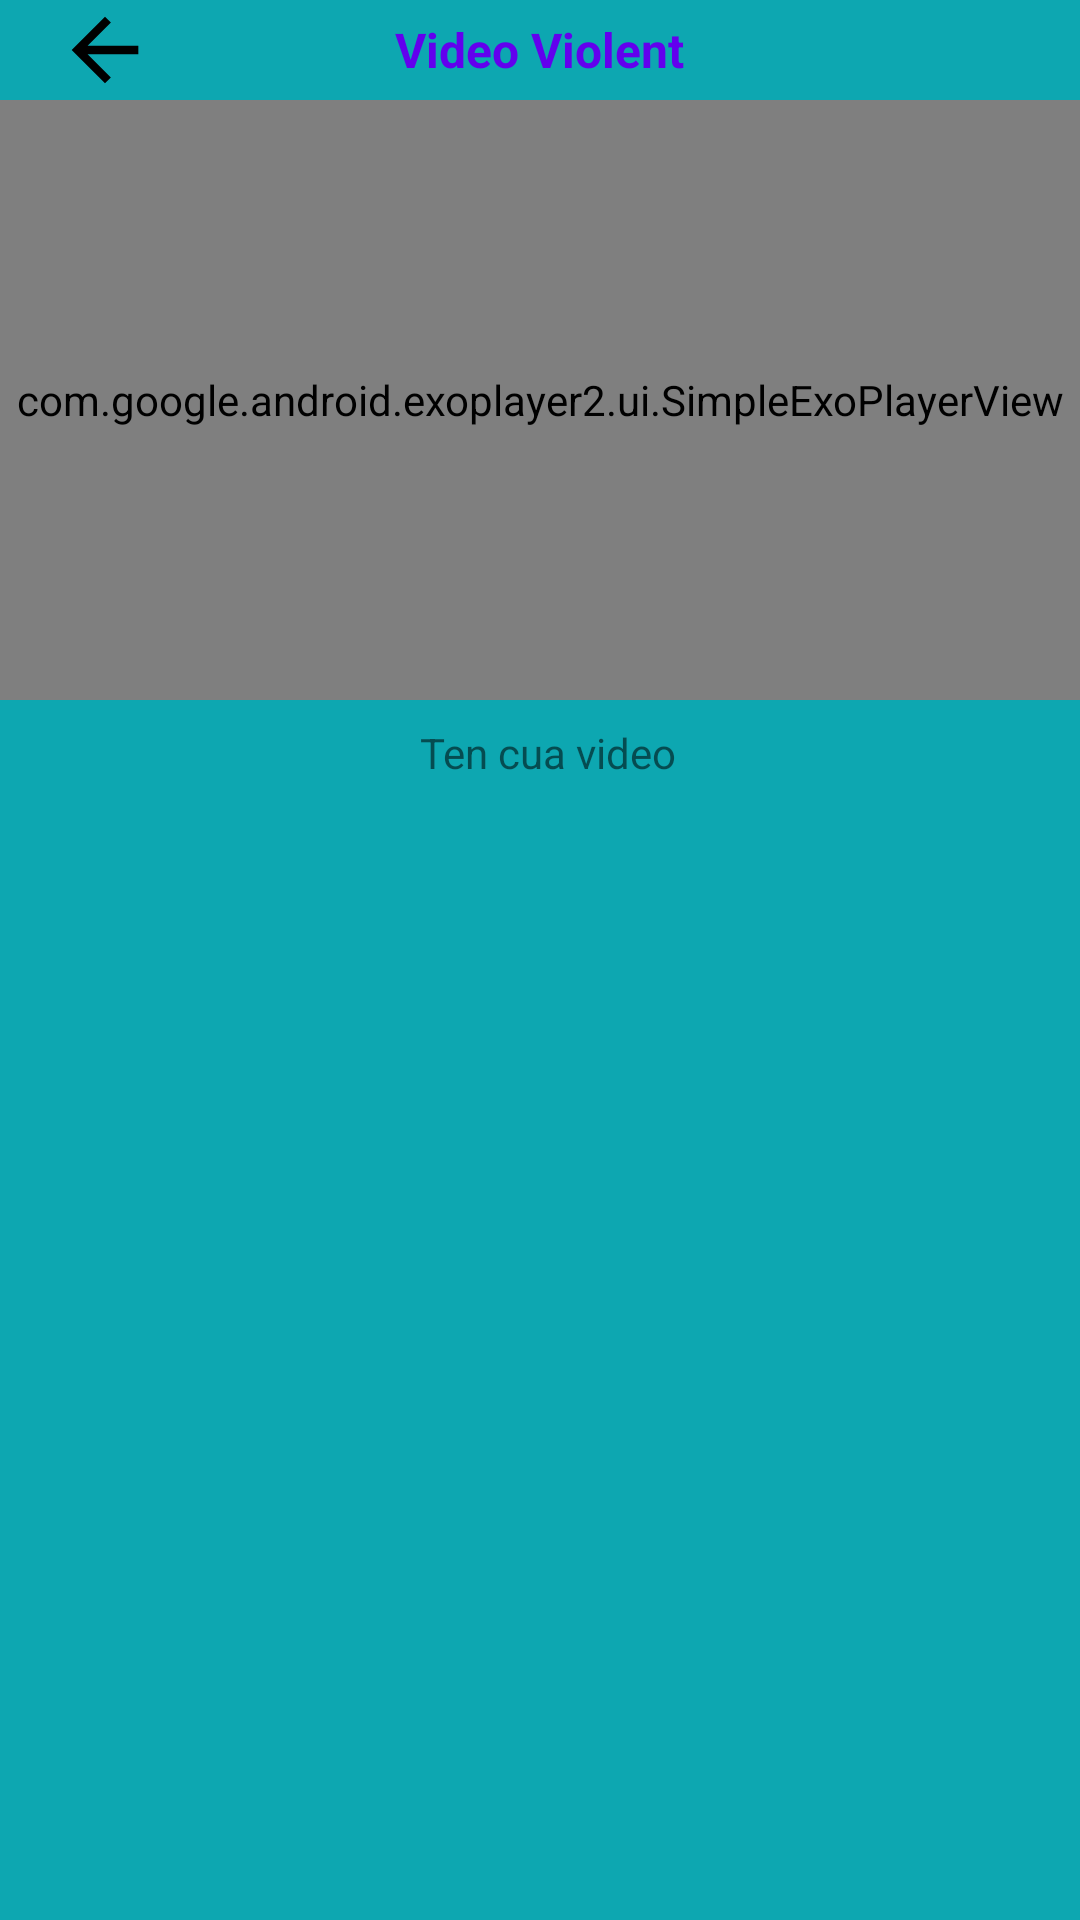

Point at icon controls on the screen. Image size 1080x1920, points as (x=x, y=y).
arrow back: (x=105, y=50)
